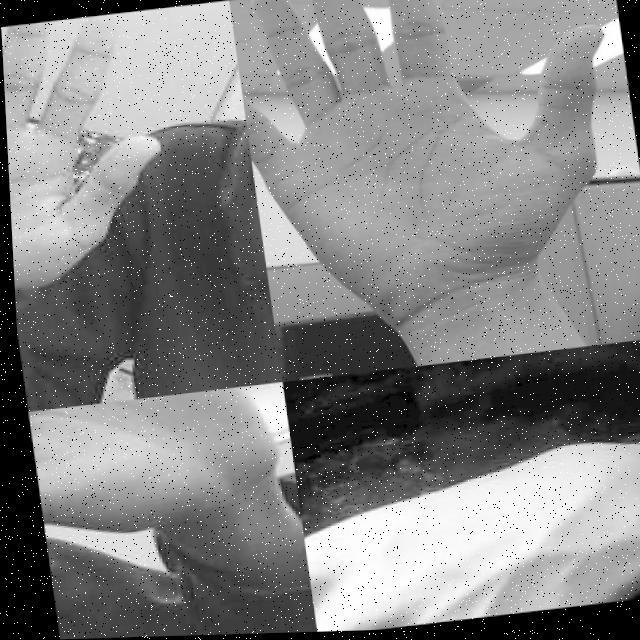no-gloves: (228, 0, 637, 329), (288, 436, 640, 634), (23, 384, 290, 587), (1, 10, 178, 294)
